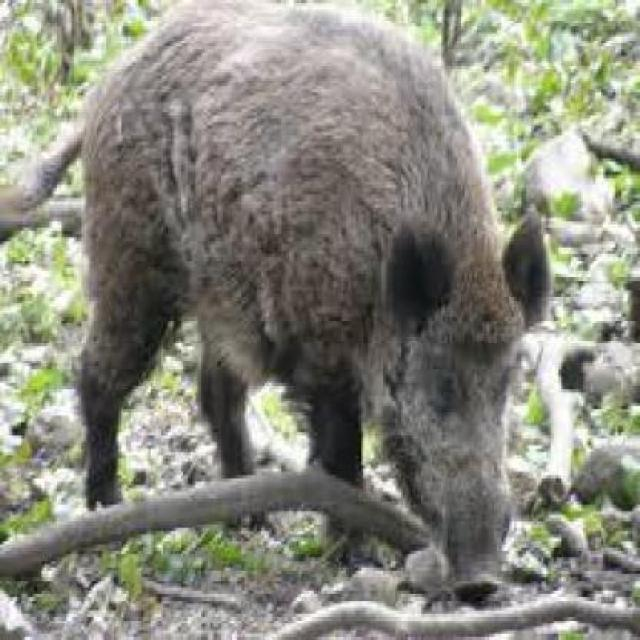wildboar: (20, 0, 555, 614)
